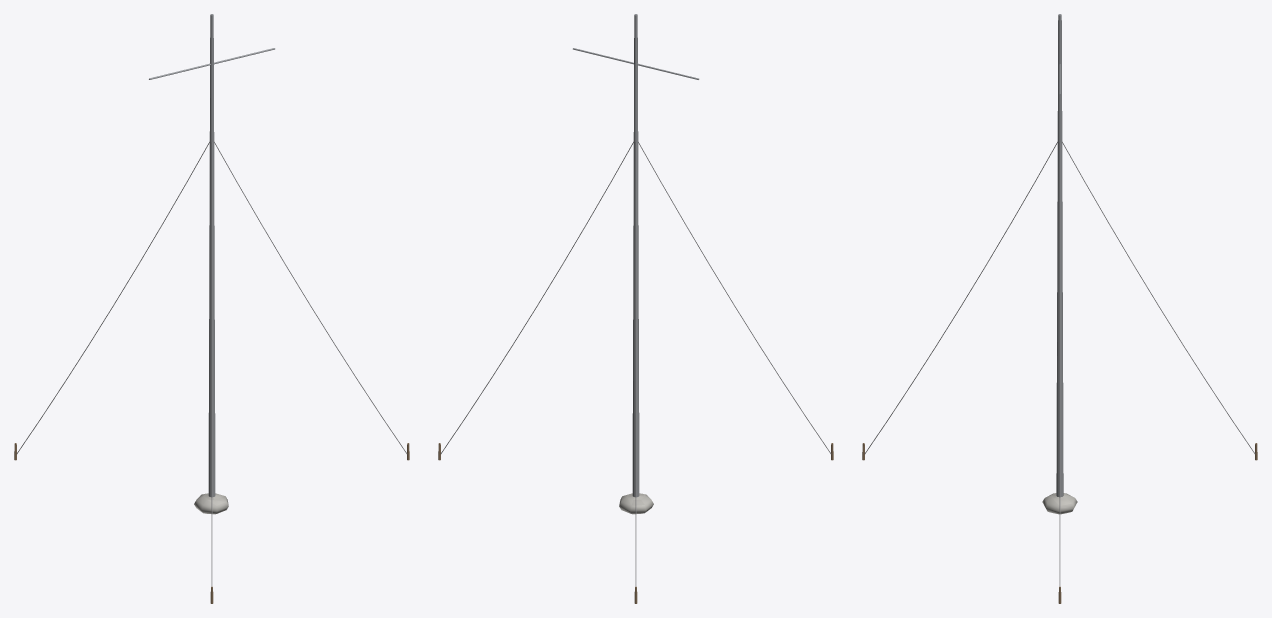
The model's file is cabin_radio_aerial_a.glb.
3 renders of one model, left to right at view 1: azimuth 30°, elevation 25°; view 2: azimuth 150°, elevation 25°; view 3: azimuth 270°, elevation 25°, orthographic.
Parts seen in each view (by area): view 1: body; view 2: body; view 3: body.
Boxes of the visible parts, <box> form: body: <box>14,14,409,603</box>; body: <box>438,14,833,603</box>; body: <box>862,14,1257,603</box>.
Bounding box in the file's own units: 3.78 × 6.05 × 4.36.
